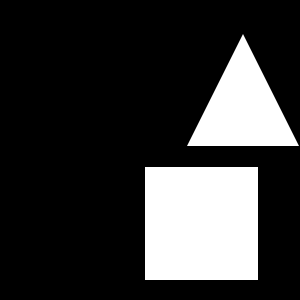circle: (145, 167, 258, 280)
triangle: (187, 34, 299, 146)
